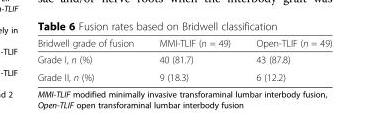table: (36, 37, 331, 82)
table column: (36, 37, 145, 82), (145, 37, 242, 82), (242, 37, 331, 82)
table column header: (36, 37, 331, 50)
table row: (36, 50, 331, 68), (36, 68, 331, 82), (36, 37, 331, 50)
